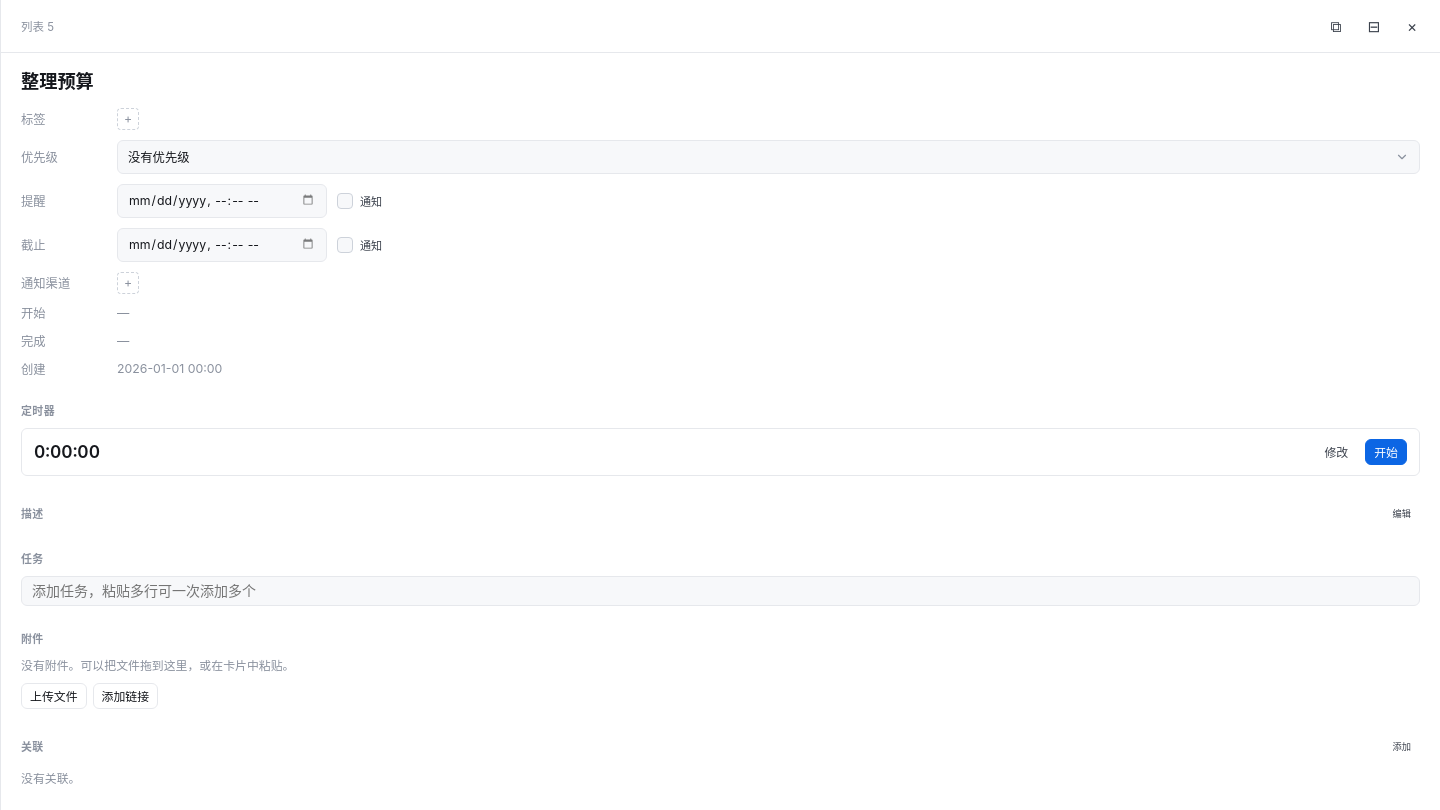
Test case: CardDetail › 标题冲突时保留草稿并显示其他设备的标题，选择覆盖时以最新序号重新提交
Click the heading "整理预算". click: [57, 81]
box: [21, 70, 94, 92]
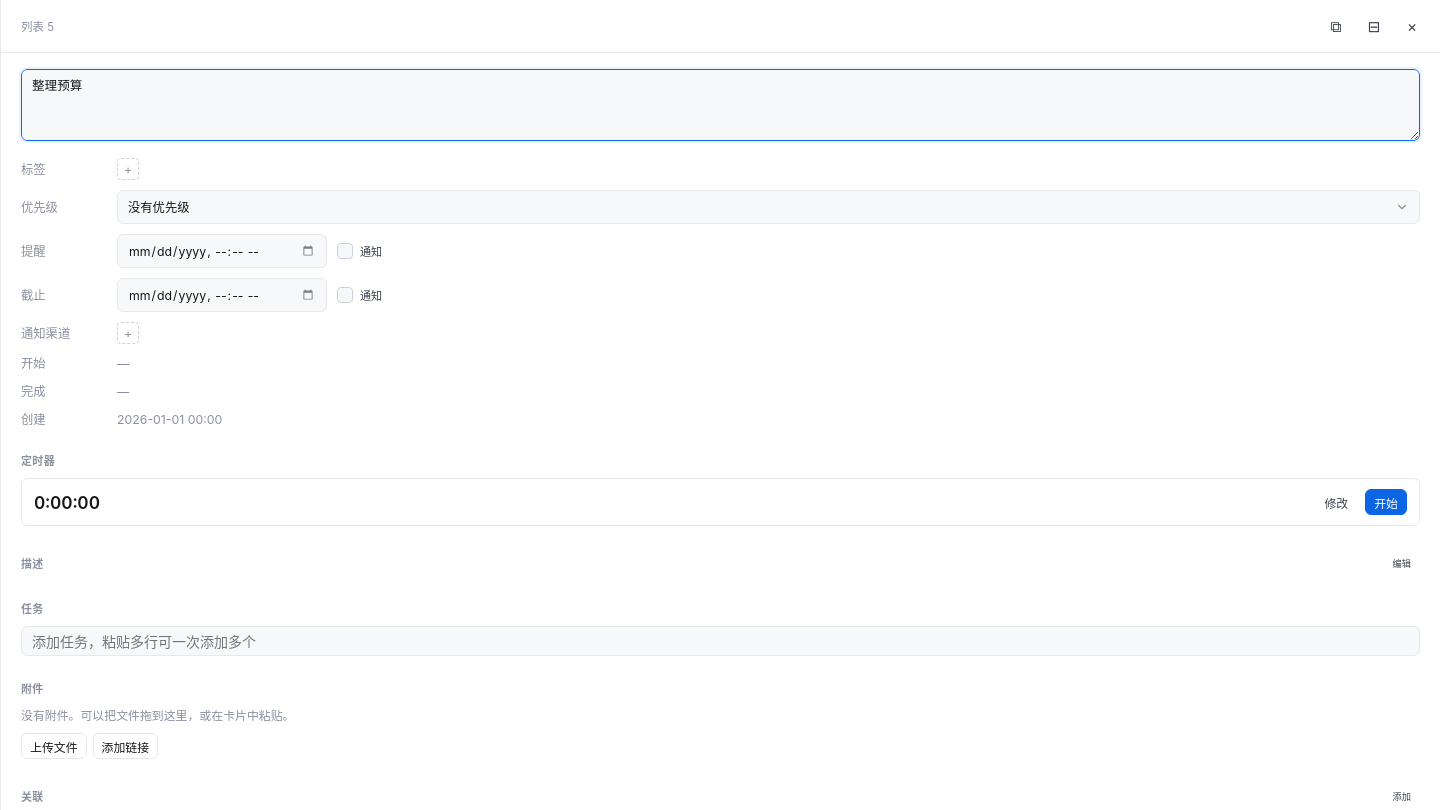
Replace the text in the text box named "卡片标题" with "我的草稿". click: [720, 105]
box: [21, 69, 1420, 141]
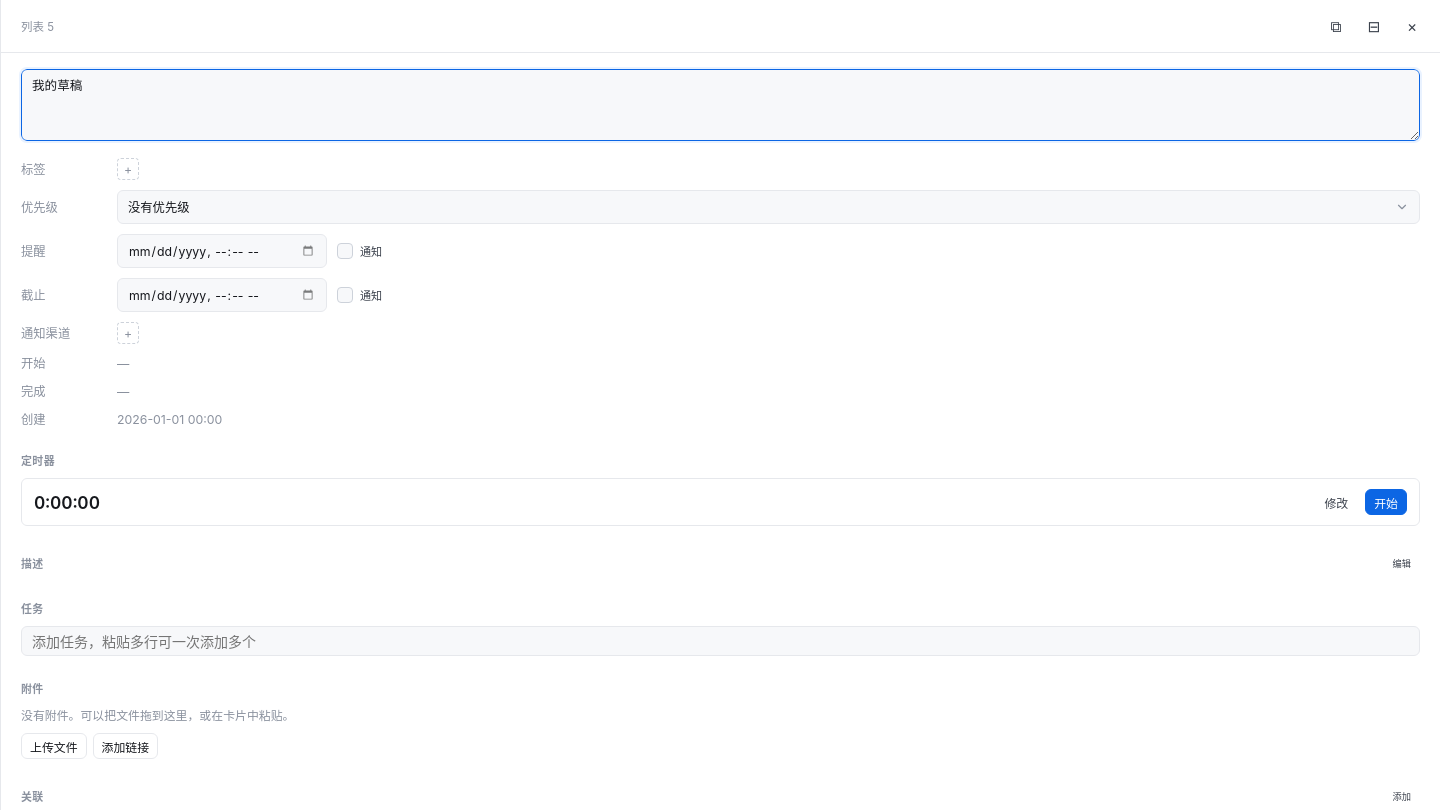
Leave the text box named "卡片标题", box [21, 69, 1420, 141]
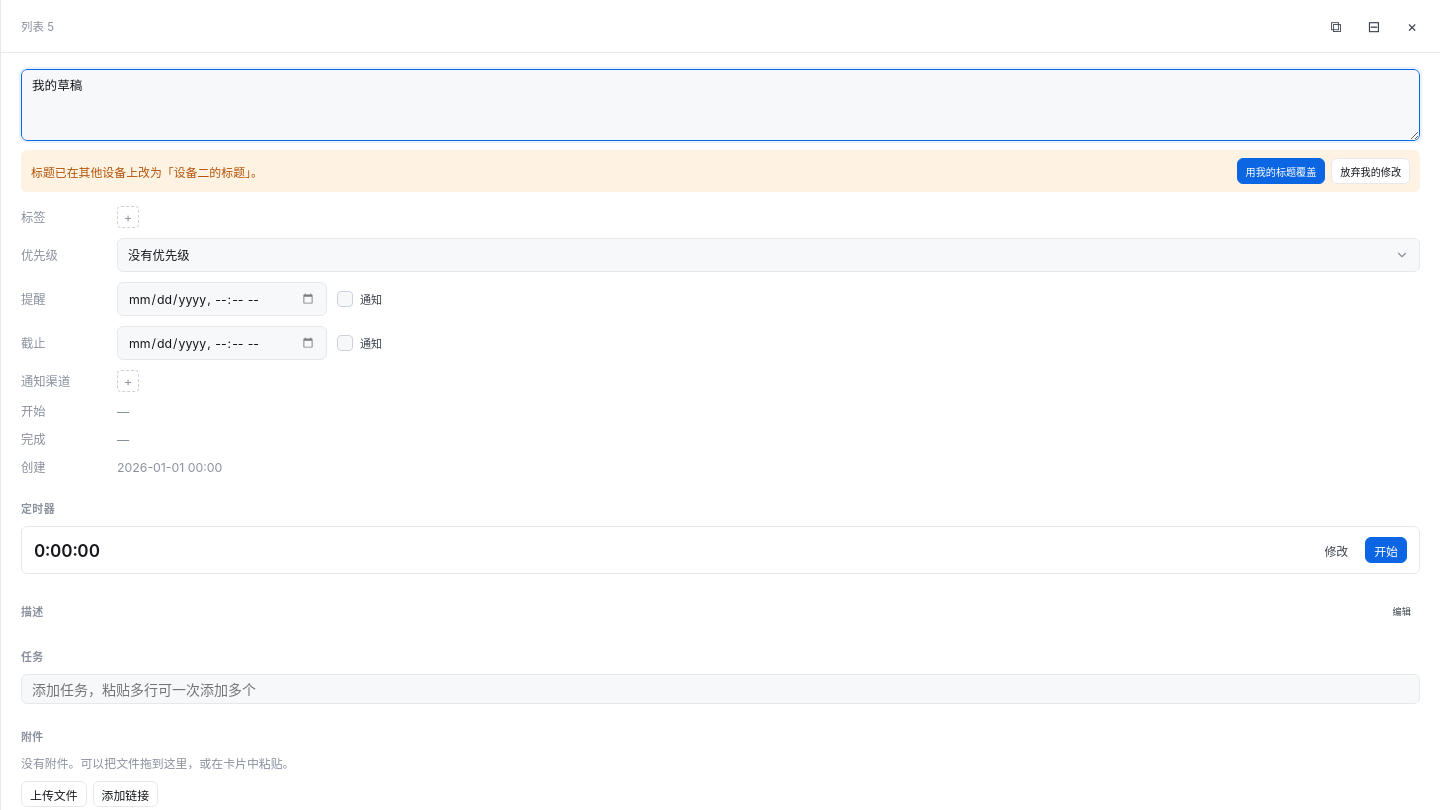
Expected: the message shows "标题已在其他设备上改为「设备二的标题」", [31, 164, 263, 180]
Click the button "用我的标题覆盖". click: [1281, 171]
box: [1236, 158, 1325, 184]
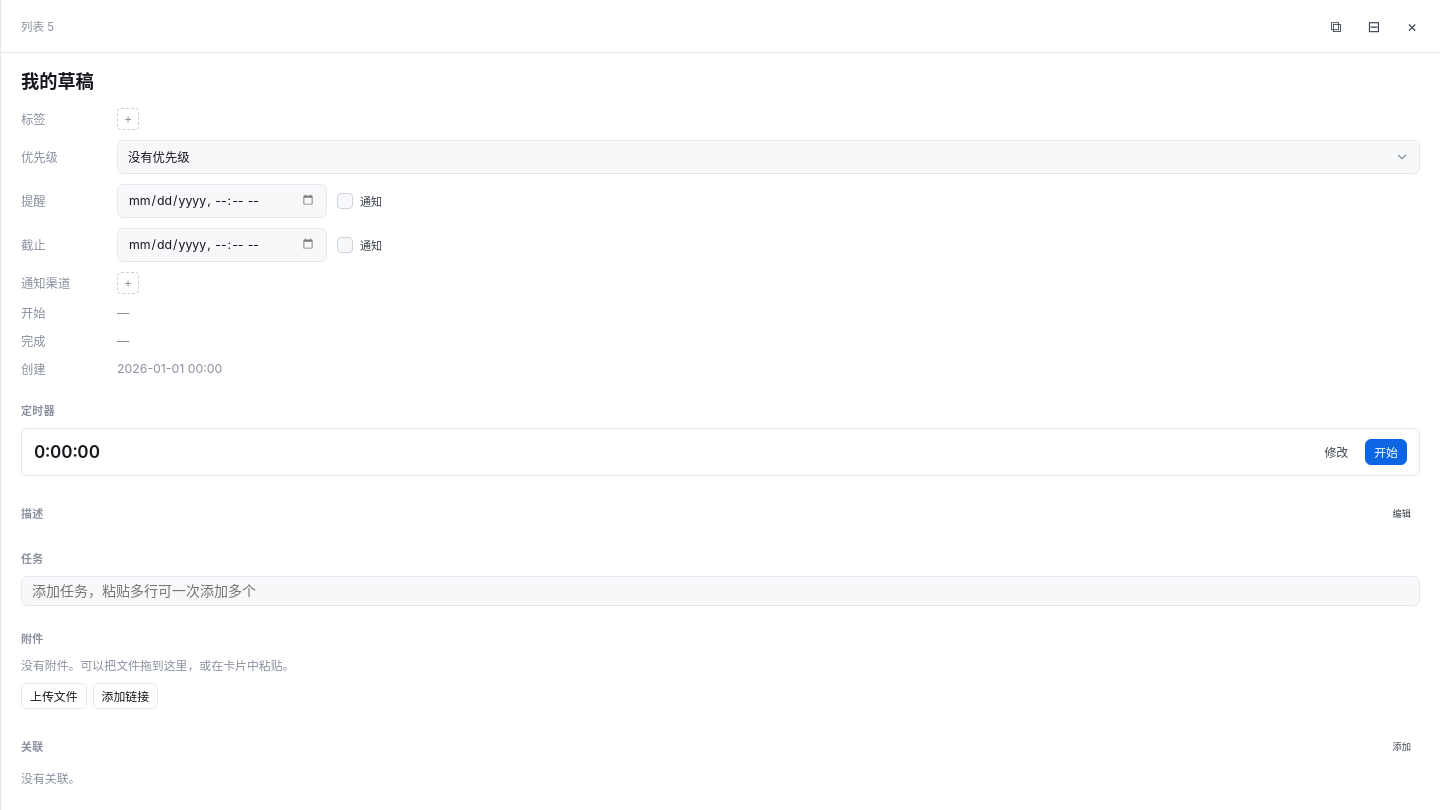
Expected: the heading "我的草稿" is shown, [21, 70, 94, 92]
